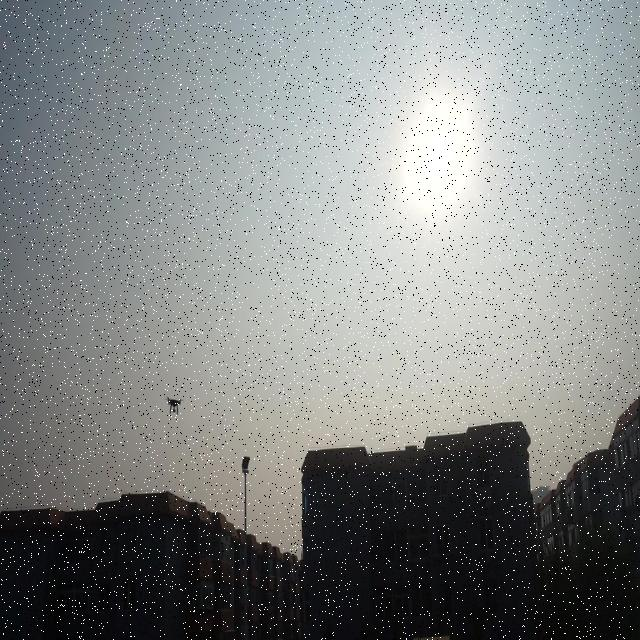UAV: (166, 397, 184, 415)
